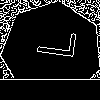L: (27, 26, 77, 60)
